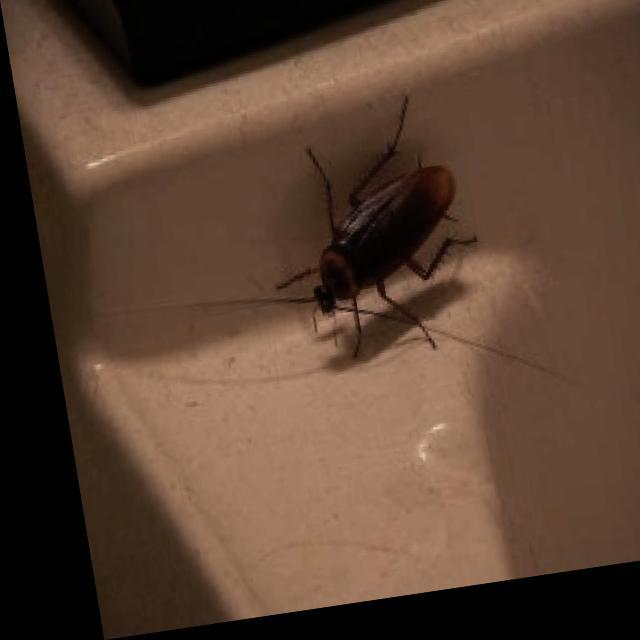cockroach: (272, 91, 480, 362)
